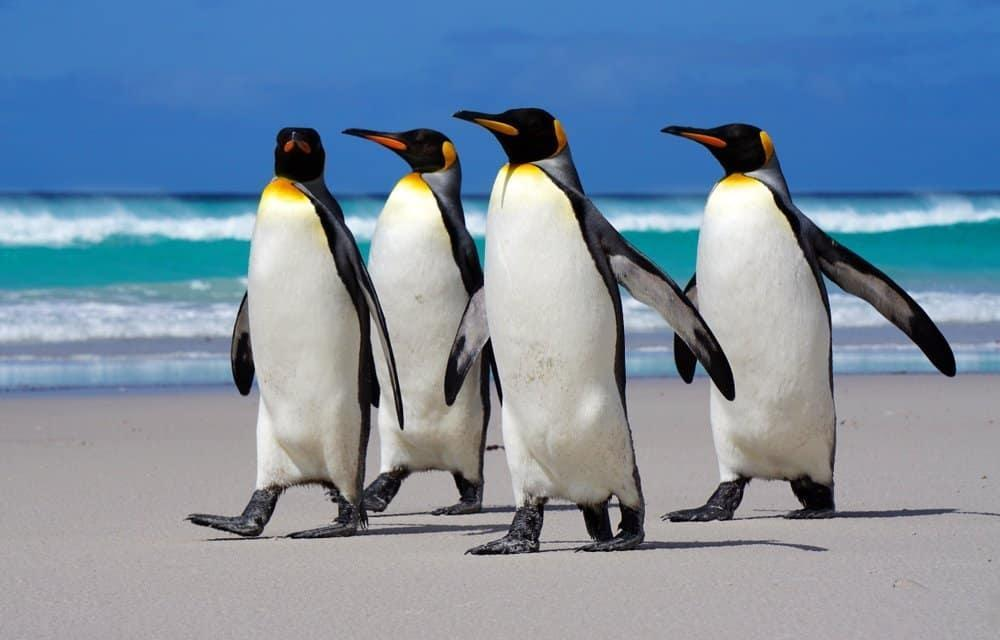Penguin: (445, 107, 734, 554), (661, 123, 958, 521), (189, 125, 403, 536), (344, 129, 490, 512)
